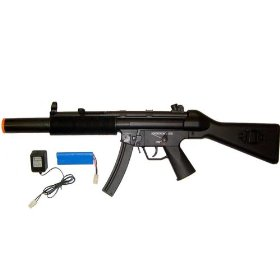rifle: (2, 105, 276, 181)
